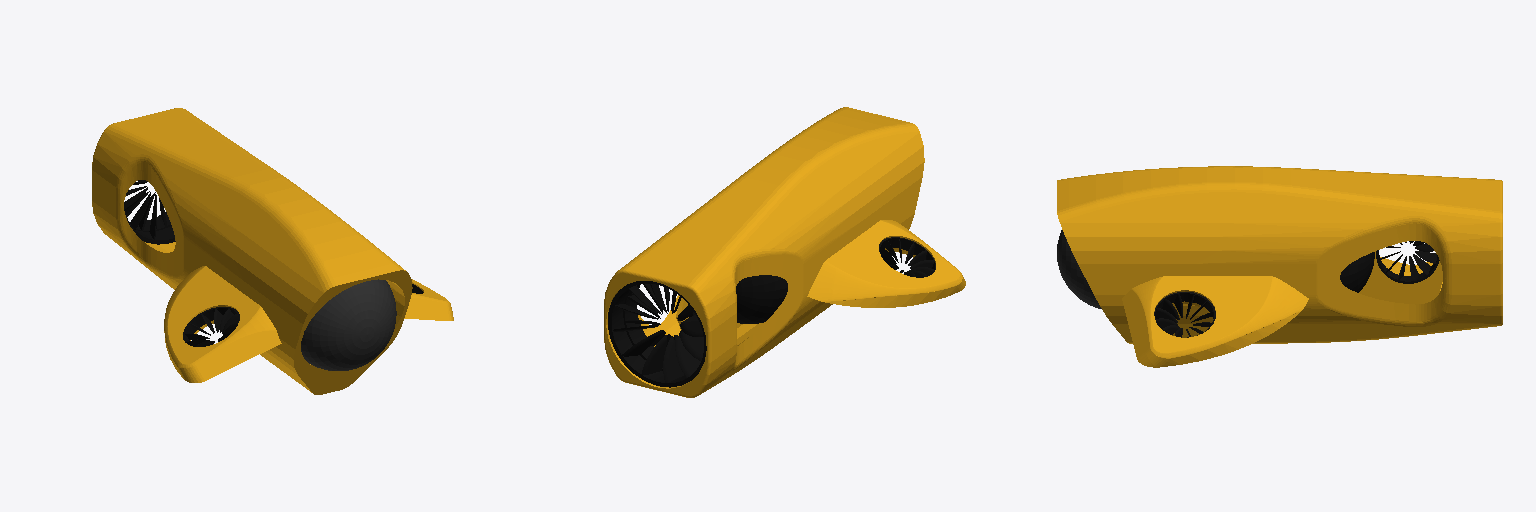
File: drone.obj
3 views of the same model, side by side, from view 1: azimuth 30°, elevation 25°; view 2: azimuth 150°, elevation 25°; view 3: azimuth 270°, elevation 25° (orthographic).
Visible parts, largest first — view 1: Carriage, Wing (1), Lens, Motor (1) (1) (1), Wing, Motor (1), Motor; view 2: Carriage, Wing (1), Motor, Body, Motor (1) (1) (1), Motor (1); view 3: Carriage, Wing, Inner Hold, Motor (1) (1), Motor (1) (1) (2), Lens, Body.
Part boxes in pixels (bbox=[...]): Carriage: bbox=[92, 108, 412, 394]; Wing (1): bbox=[164, 266, 281, 382]; Lens: bbox=[301, 279, 396, 370]; Motor (1) (1) (1): bbox=[183, 307, 239, 346]; Wing: bbox=[404, 279, 453, 320]; Motor (1): bbox=[124, 181, 175, 244]; Motor: bbox=[125, 180, 171, 231]; Carriage: bbox=[604, 107, 924, 397]; Wing (1): bbox=[807, 220, 965, 307]; Motor: bbox=[608, 281, 706, 387]; Body: bbox=[736, 275, 787, 323]; Motor (1) (1) (1): bbox=[879, 237, 935, 277]; Motor (1): bbox=[623, 284, 703, 370]; Carriage: bbox=[1057, 166, 1502, 343]; Wing: bbox=[1122, 276, 1308, 367]; Inner Hold: bbox=[1359, 251, 1442, 303]; Motor (1) (1): bbox=[1154, 292, 1215, 337]; Motor (1) (1) (2): bbox=[1376, 241, 1439, 283]; Lens: bbox=[1057, 230, 1101, 308]; Body: bbox=[1340, 252, 1374, 292].
Bounding box in the file's own units: 20.02 × 11.56 × 28.75.